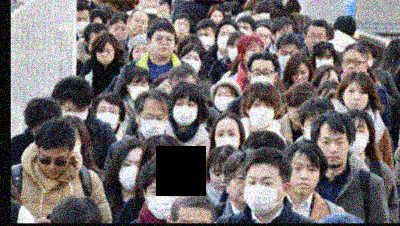with_mask: (242, 173, 281, 215), (145, 183, 181, 220), (138, 110, 166, 138), (248, 99, 274, 128), (172, 98, 197, 127), (118, 158, 139, 192), (348, 122, 368, 155), (214, 127, 240, 150), (95, 104, 118, 129), (213, 87, 235, 111), (60, 103, 88, 121), (249, 66, 274, 86), (128, 79, 148, 100), (216, 29, 233, 51), (278, 48, 296, 67), (197, 30, 214, 49), (313, 53, 333, 69), (75, 15, 89, 33), (226, 43, 238, 62)
without_mask: (289, 159, 319, 194), (317, 135, 347, 168), (37, 151, 69, 179), (149, 32, 174, 57), (342, 85, 368, 109), (228, 169, 245, 204), (305, 31, 326, 53), (341, 56, 364, 75), (208, 166, 225, 190), (128, 15, 148, 35), (290, 66, 309, 84), (96, 46, 114, 64), (110, 23, 128, 40), (173, 19, 189, 37), (255, 30, 270, 45), (131, 45, 147, 59)
